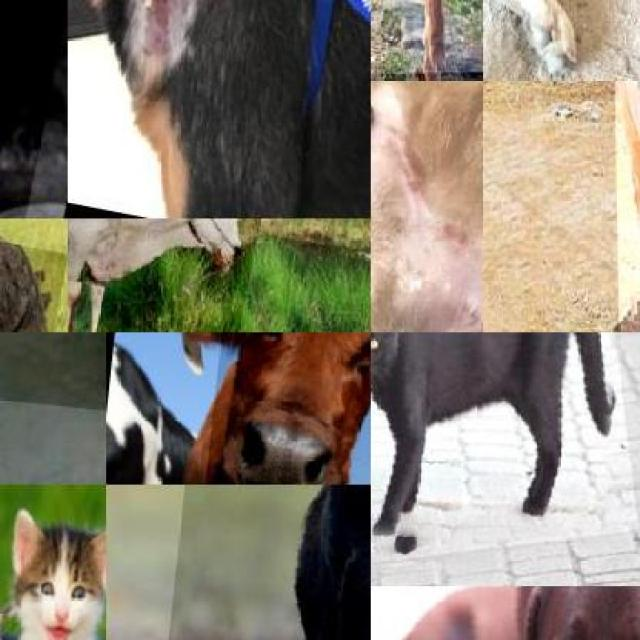buffalo: (143, 484, 370, 640)
cat: (371, 332, 638, 566), (371, 80, 483, 332), (0, 517, 106, 640)
cow: (195, 332, 371, 485), (68, 218, 275, 332)
dog: (67, 0, 370, 218), (0, 332, 106, 440)
injured: (68, 0, 220, 91), (371, 80, 394, 314), (68, 278, 103, 332)
